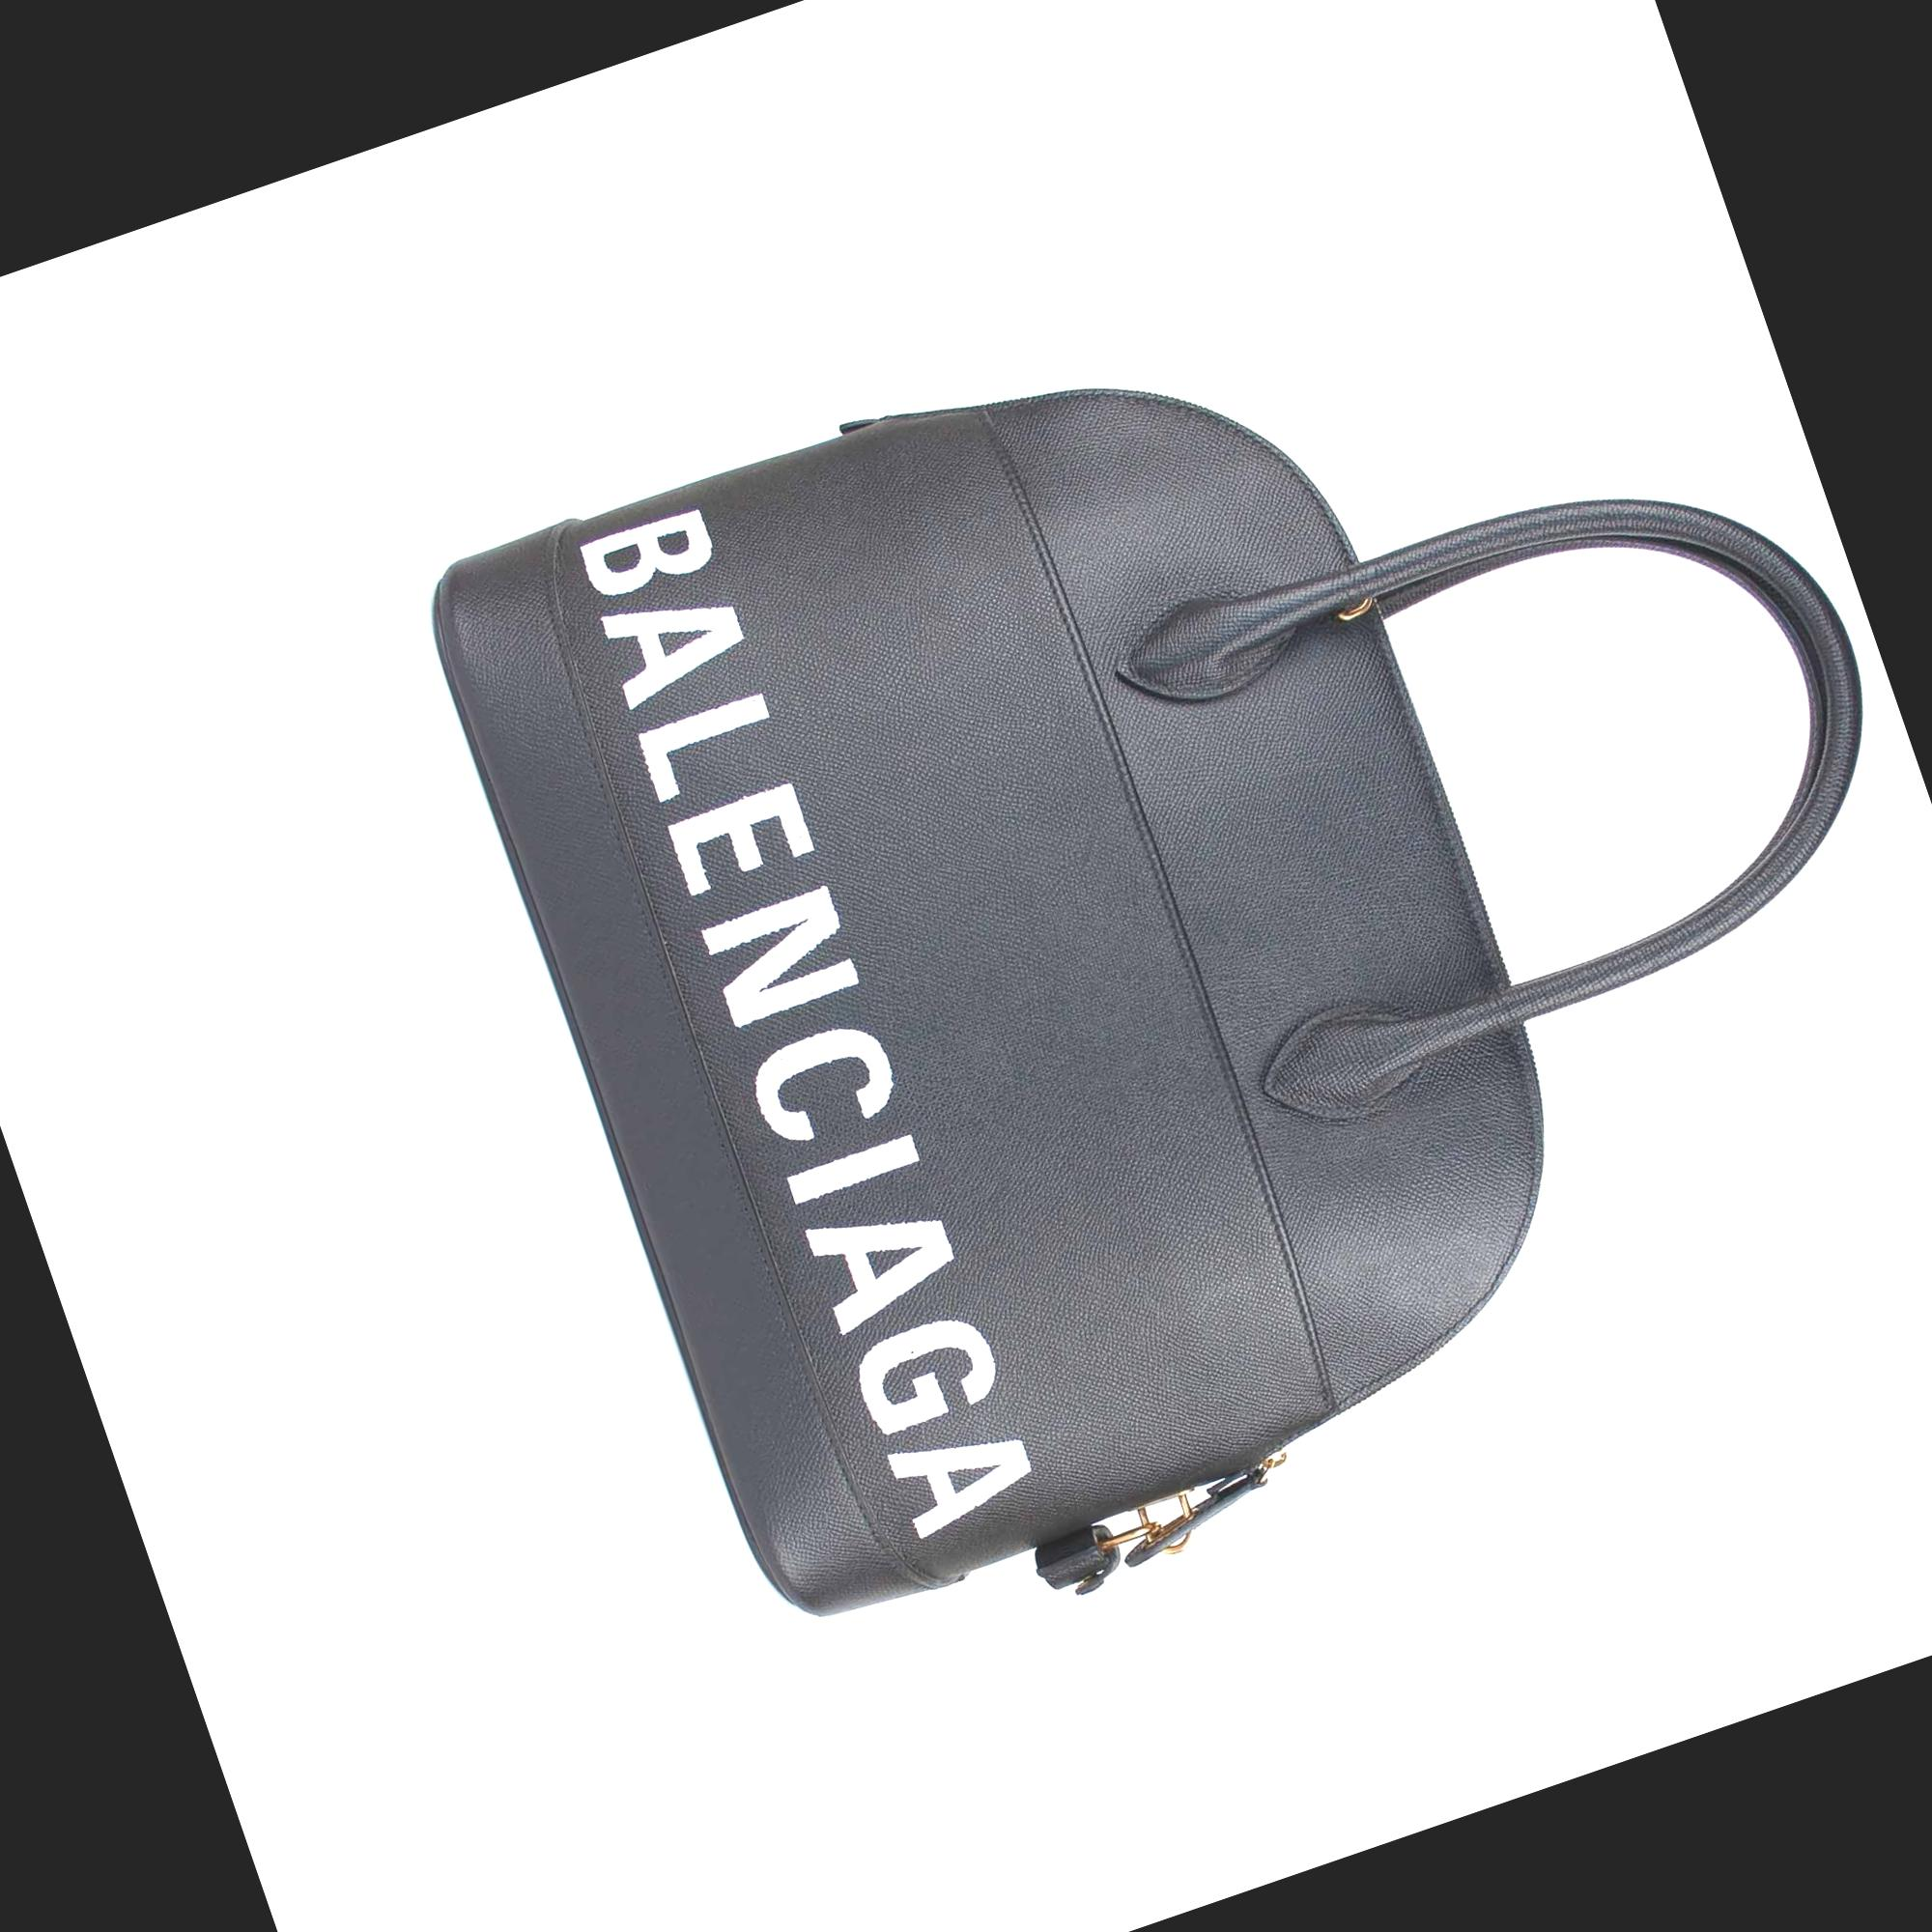BALENCIAGA: (564, 504, 1042, 1545)
